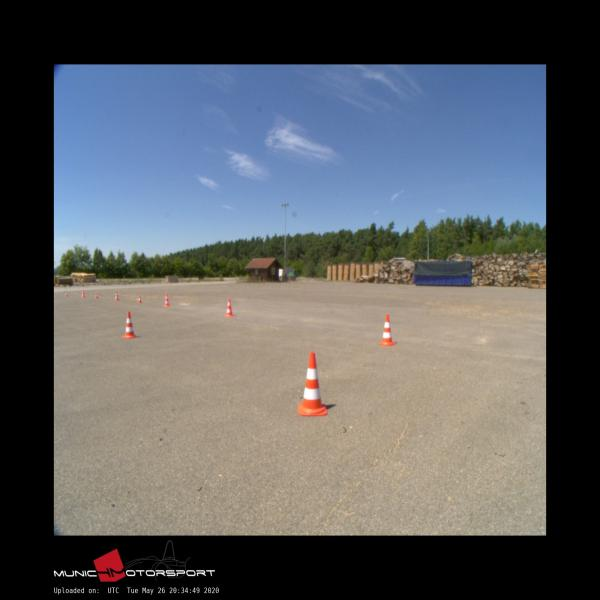large_orange_cone: (298, 351, 327, 416), (378, 314, 396, 346), (122, 311, 136, 338), (224, 298, 234, 317), (163, 294, 170, 306), (114, 291, 119, 300), (82, 290, 85, 298)
orange_cone: (138, 296, 142, 303), (95, 293, 98, 299)
